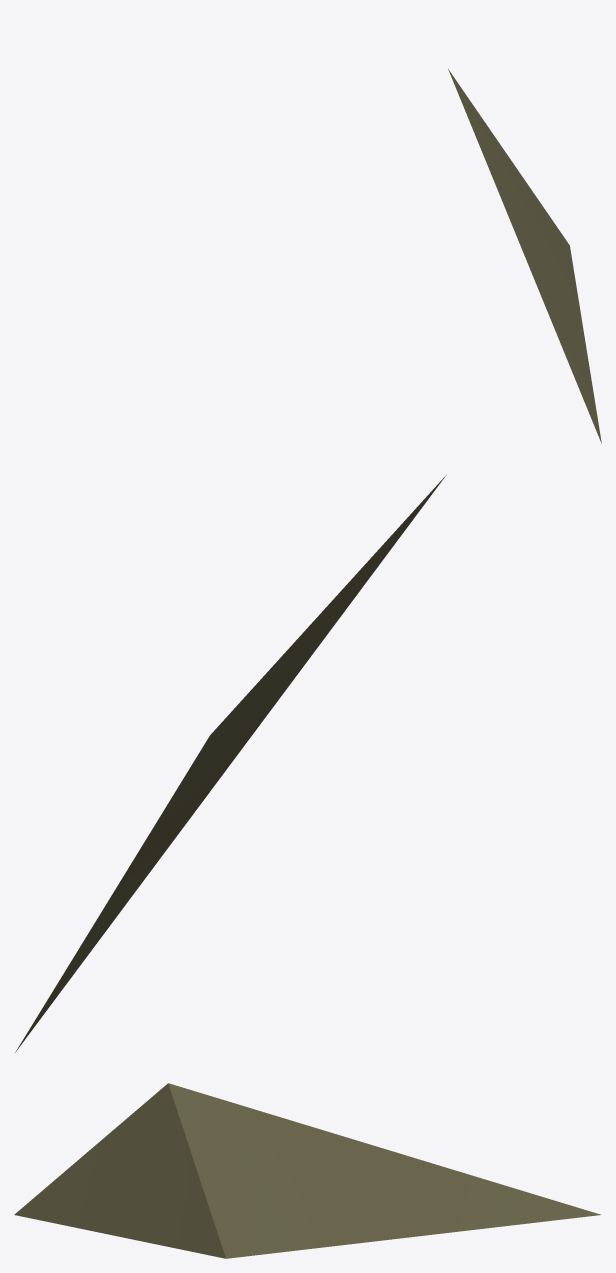
3 views of the same model, one above another, from view 1: azimuth 30°, elevation 25°; view 2: azimuth 150°, elevation 25°; view 3: azimuth 270°, elevation 25° (orthographic). The views are drawn at different scales.
Size of the model in its own units: 0.0093 by 0.013 by 0.0526.
1 material, 1 textured.
